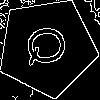Q: (22, 22, 77, 69)
